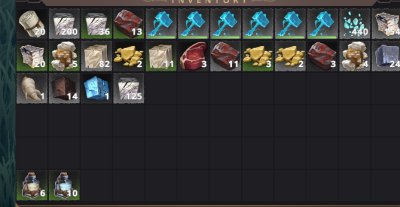cinnabar mineral: (211, 40, 240, 70), (113, 9, 144, 37), (308, 42, 337, 70)
dolomite mineral: (340, 41, 369, 70), (50, 42, 78, 71)
ethereal dust: (340, 8, 369, 38)
granite stone: (372, 42, 399, 70)
limestone stone: (18, 42, 47, 70), (373, 10, 400, 37)
marble stone: (50, 8, 78, 37), (82, 9, 110, 38), (115, 73, 142, 103)
slate stone: (50, 73, 77, 102)
sulphur mineral: (244, 41, 273, 70), (276, 42, 305, 69), (113, 43, 142, 68)
travertine stone: (83, 42, 110, 71), (148, 42, 175, 69)
